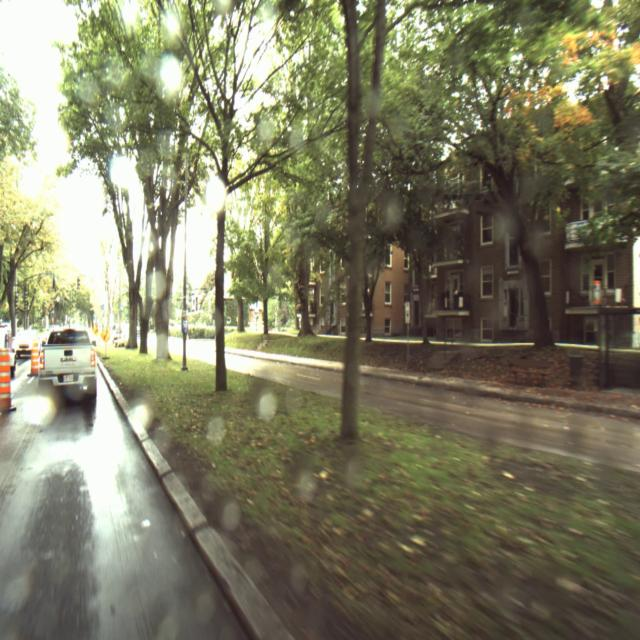car: (40, 329, 97, 407), (11, 329, 42, 359)
